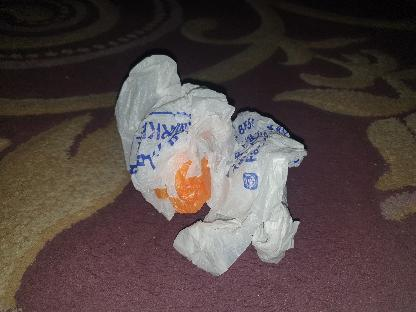Plastic Bag: (113, 54, 311, 276)
